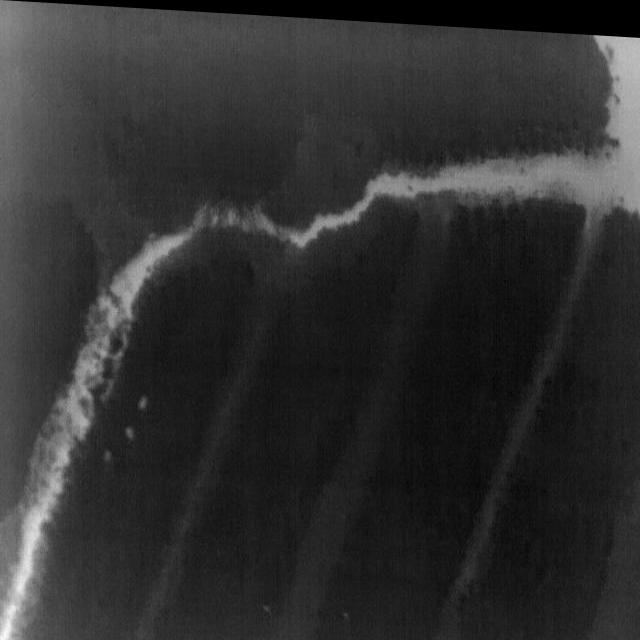deer: (137, 393, 148, 409), (100, 448, 113, 461), (124, 424, 136, 438)
